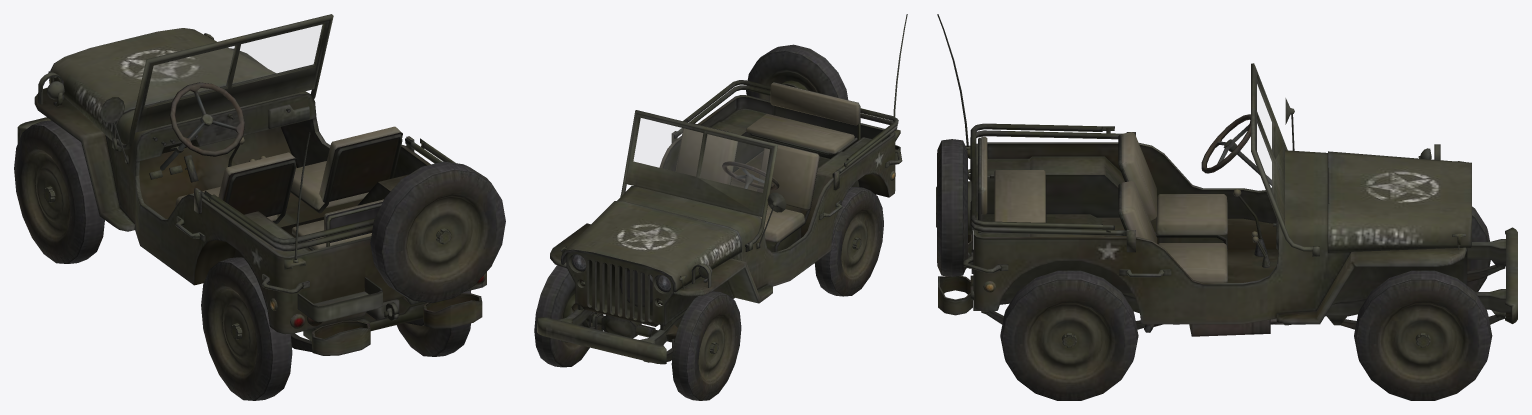
Rendered from jeep_willys.glb.
3 renders of one model, left to right at view 1: azimuth 30°, elevation 25°; view 2: azimuth 150°, elevation 25°; view 3: azimuth 270°, elevation 25°, orthographic. The views are drawn at different scales.
Visible parts, largest first — view 1: jeep_willys_body; view 2: jeep_willys_body; view 3: jeep_willys_body.
Part boxes in pixels (x1,y1,x2,y2): jeep_willys_body: [14, 14, 505, 400]; jeep_willys_body: [534, 14, 907, 400]; jeep_willys_body: [936, 14, 1517, 400].
Size of the model in its own units: 1.52 by 1.92 by 3.4.
2 materials, 2 textured.
